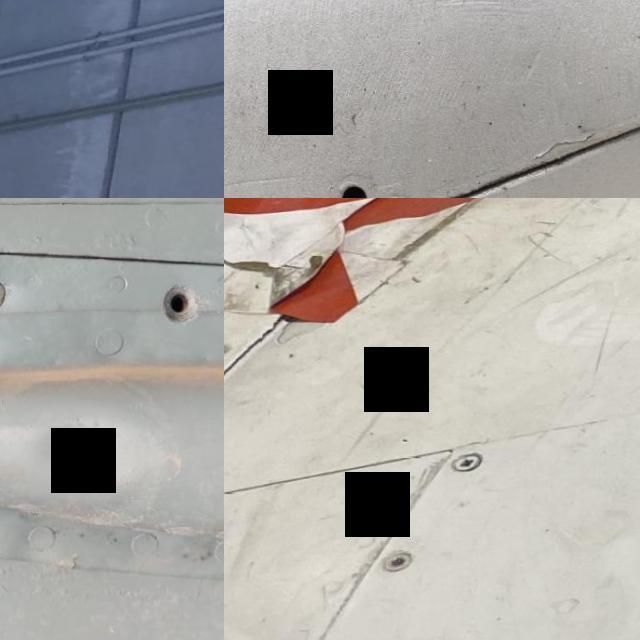Missing_Fastener: (128, 253, 224, 347), (308, 145, 414, 198), (0, 314, 23, 397)
